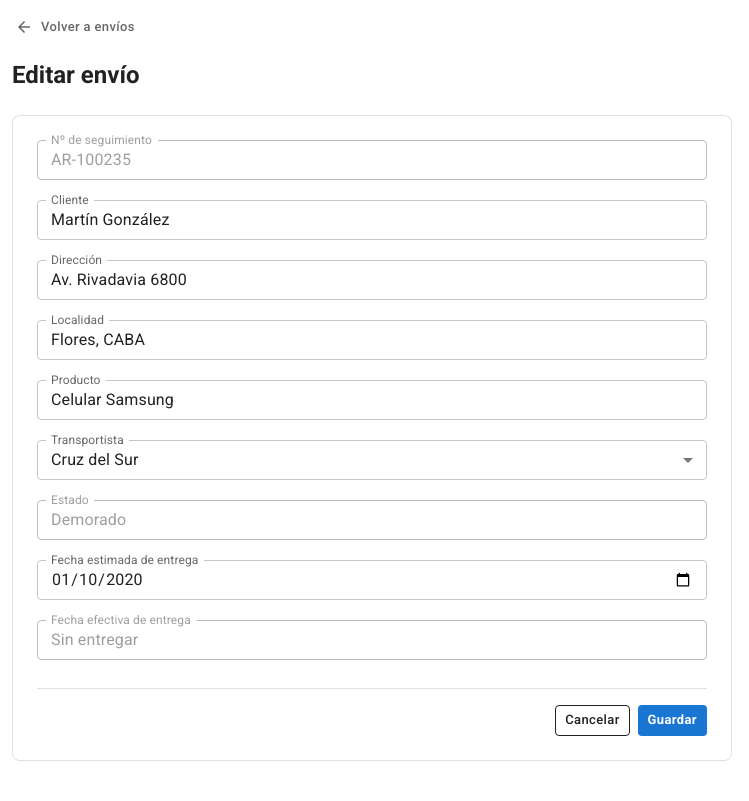
Test: ShipmentFormPage › rechaza cambiar la fecha por otra que no sea futura
Type "2020-02-01" into the date field labelled "Fecha estimada de entrega" at (372, 580), box [37,560,707,600]
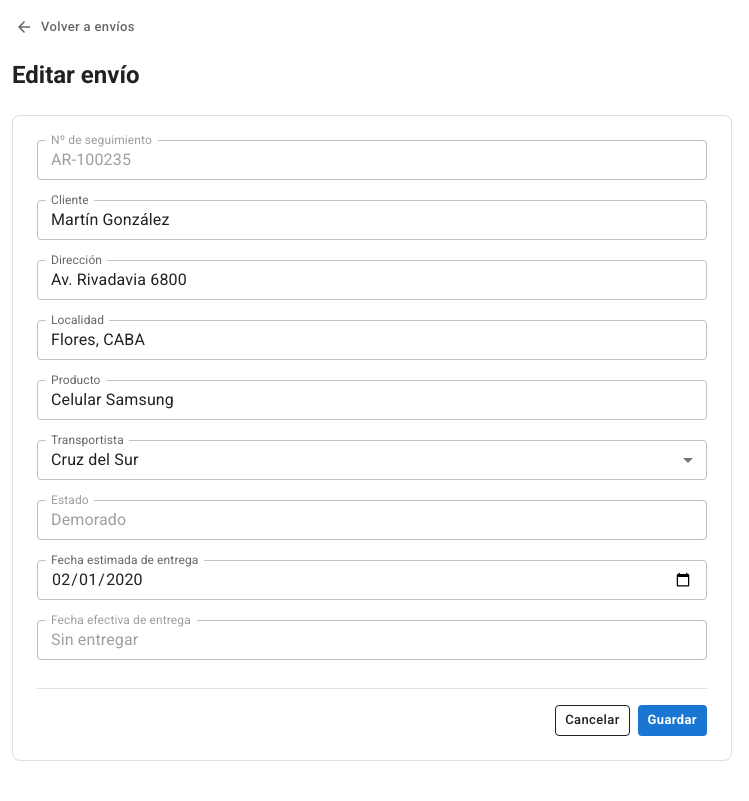
Click the button "Guardar" at (672, 720), box [638,705,707,736]
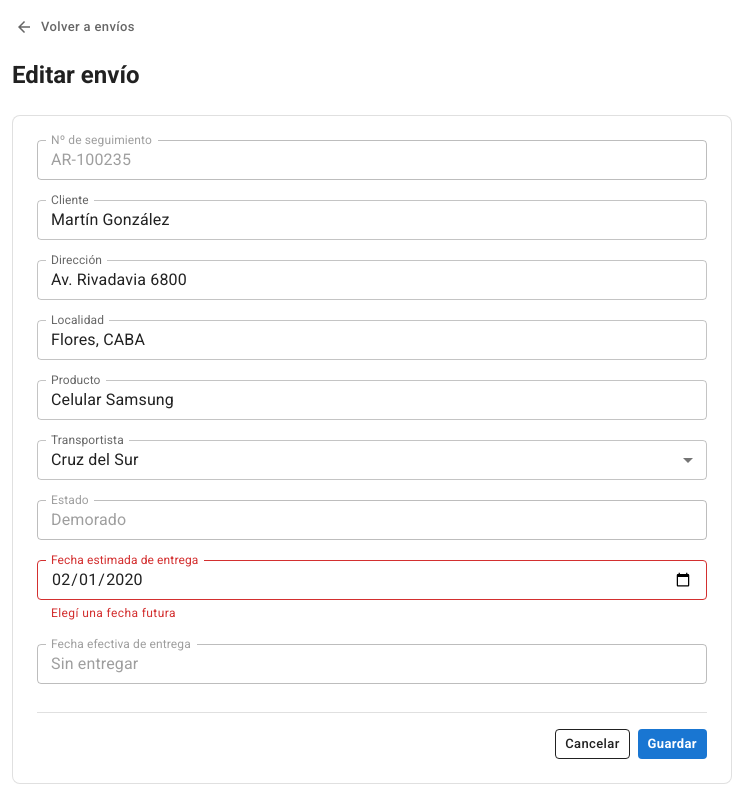
Check: the text "Elegí una fecha futura" is shown, box [51,606,176,620]
